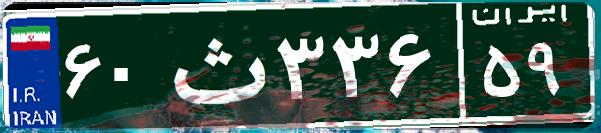0: (110, 28, 158, 105)
3: (273, 28, 330, 110), (330, 28, 385, 110)
5: (475, 38, 525, 113)
6: (385, 28, 445, 110), (57, 26, 110, 107)
9: (525, 38, 570, 115)
ث: (158, 15, 273, 115)
